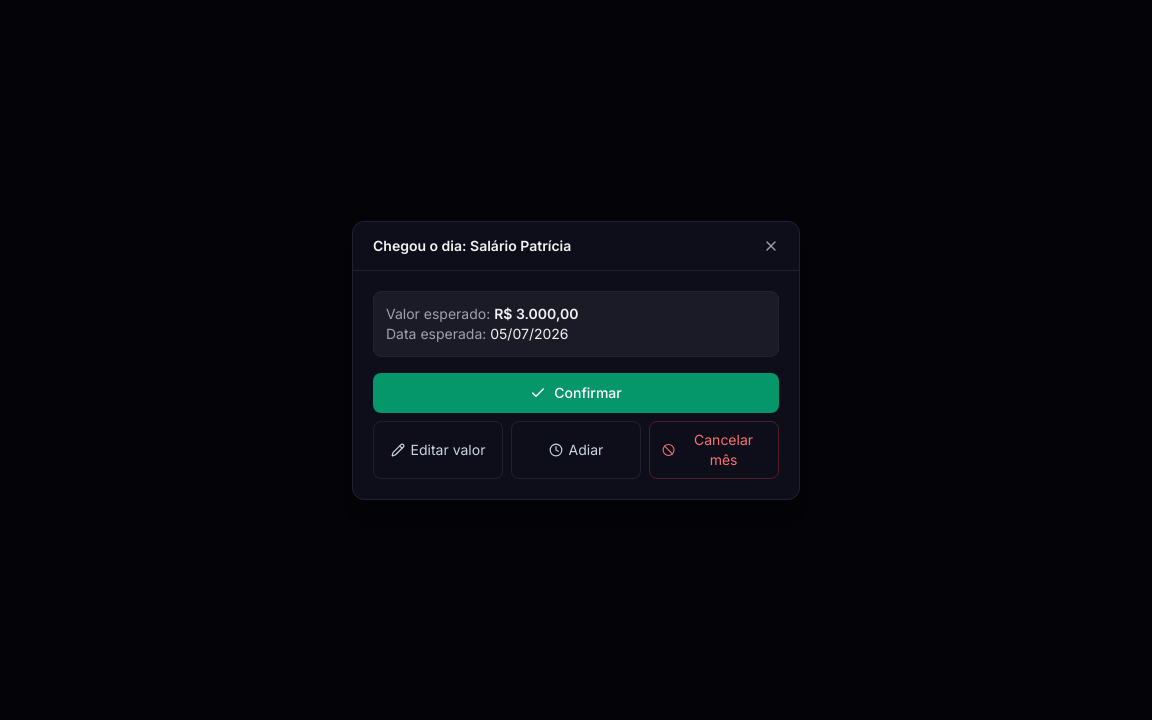
OcorrenciaDecisaoModal › Adiar abre o input de dias
This screenshot has width=1152, height=720.
Step 1. Click the button "Adiar" → (576, 450), box x1=511 y1=420 x2=641 y2=478
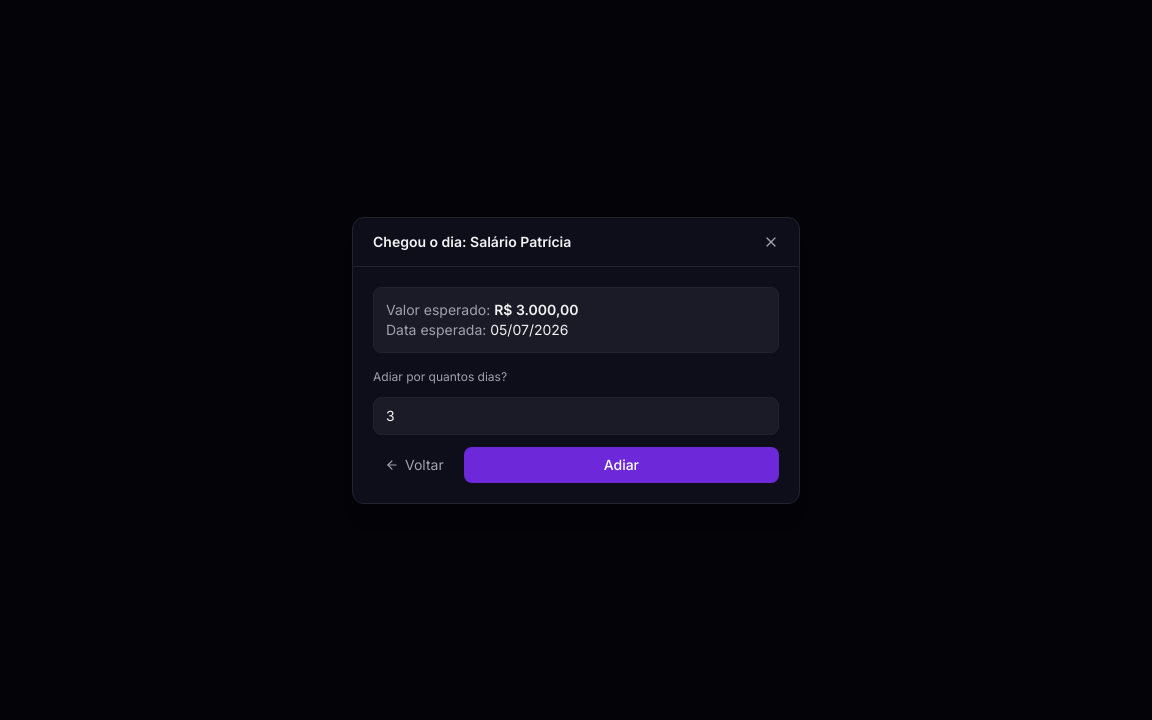
Expected: the text "Adiar por quantos dias?" is shown, x1=373 y1=368 x2=507 y2=384
